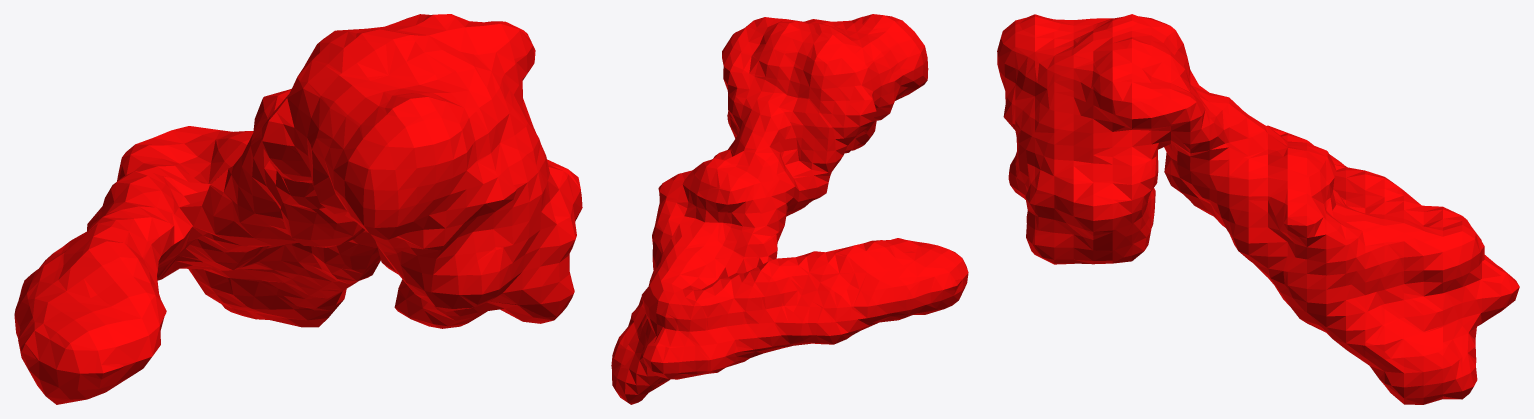
File: cydC_coarse.dae
The picture shows the model from 3 angles, left to right: view 1: azimuth 30°, elevation 25°; view 2: azimuth 150°, elevation 25°; view 3: azimuth 270°, elevation 25°; orthographic projection. The views are drawn at different scales.
Visible parts, largest first — view 1: cydC; view 2: cydC; view 3: cydC.
Boxes of the visible parts, x1,y1,x2,y2 form: cydC: (14,14,582,404); cydC: (611,14,968,404); cydC: (997,14,1519,404).
Size of the model in its own units: 87.5 by 85.23 by 116.
